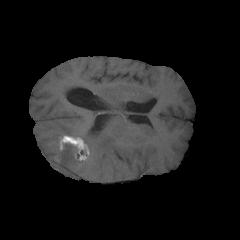glioma: (39, 124, 117, 178)
